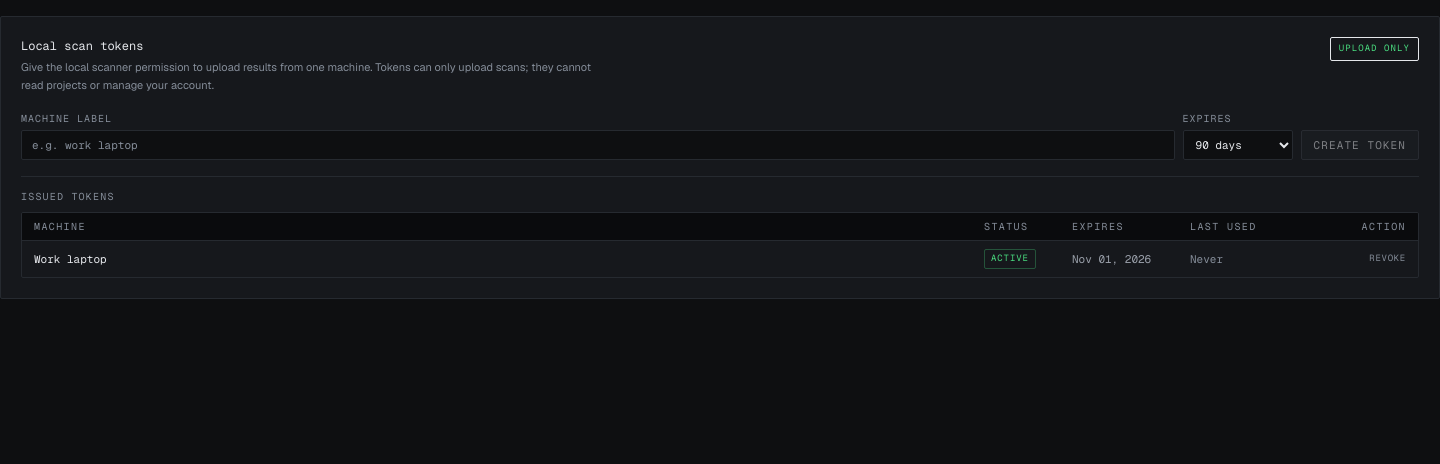
it: ScanTokensPanel › creates a labelled token with the selected expiry and reveals its secret once
Expected: the text "Work laptop" is shown, [34, 252, 107, 266]
Type "Travel laptop" into the field labelled "Machine label" at (598, 145), box [21, 130, 1175, 160]
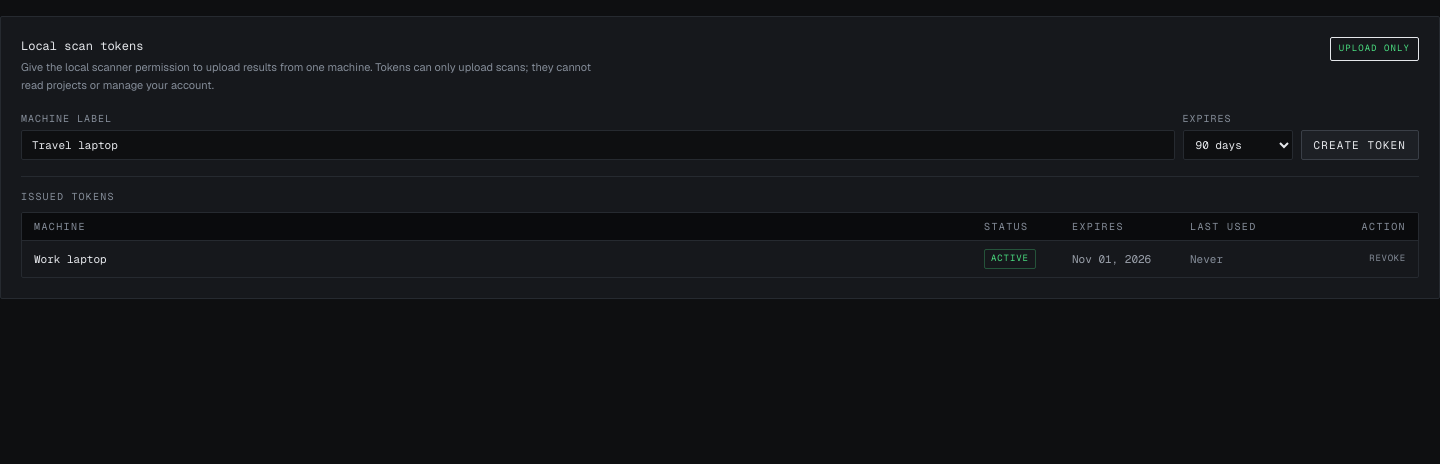
Select "180 days" in the dropdown named "Token expiry" at (1238, 145), box [1183, 130, 1293, 160]
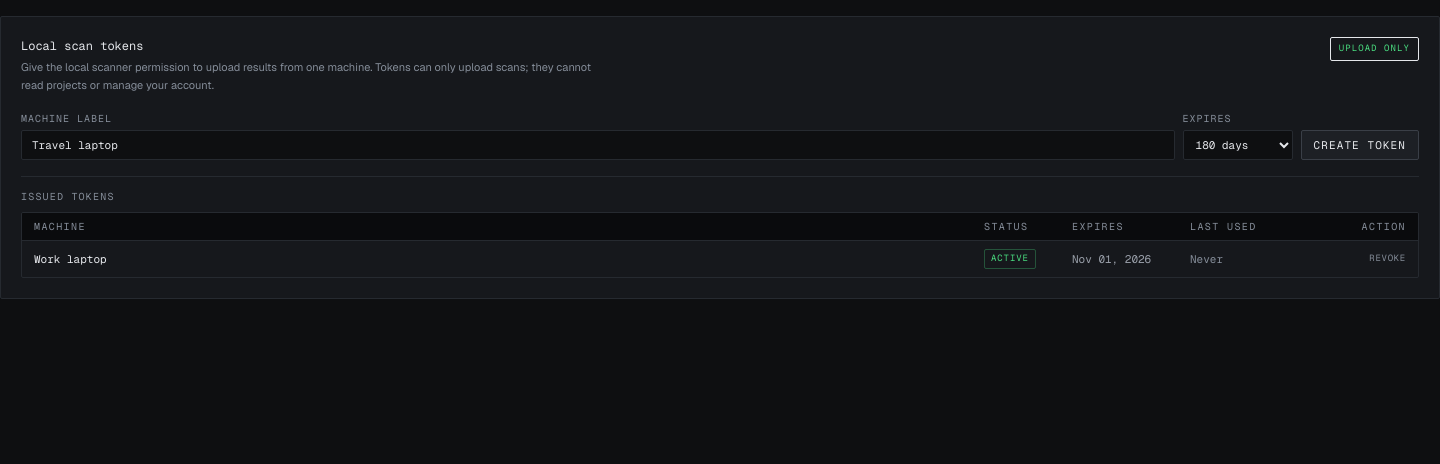
Click the button "Create token" at (1360, 145), box [1301, 130, 1419, 160]
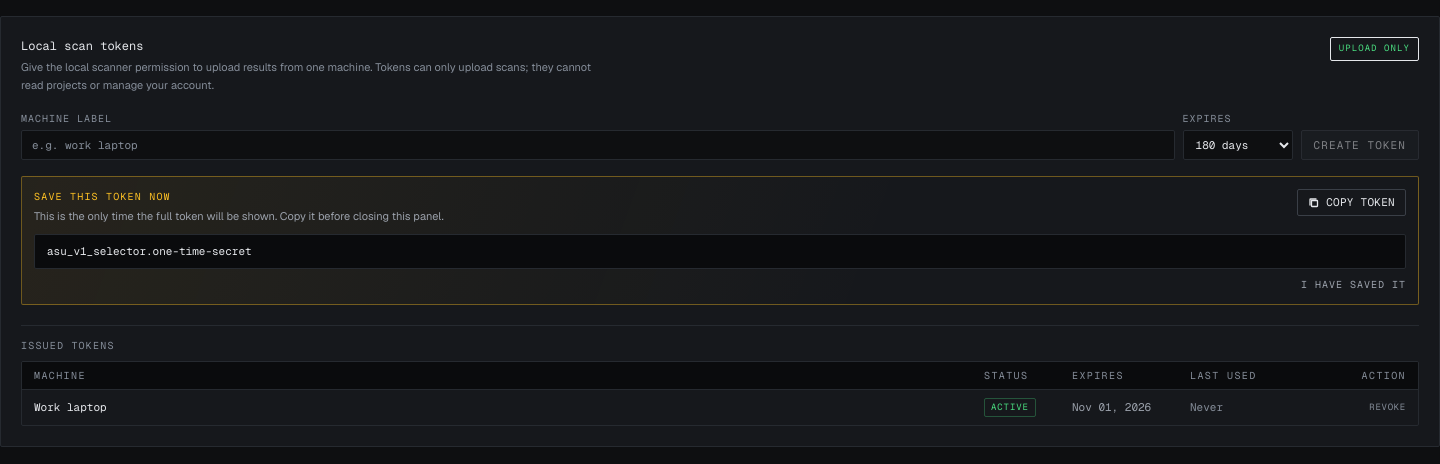
Expected: the text "asu_v1_selector.one-time-secret" is shown, [34, 234, 1406, 269]
Expected: the text "Save this token now" is shown, [34, 190, 171, 203]
Click the button "I have saved it" at (1354, 284), box [1301, 277, 1406, 292]
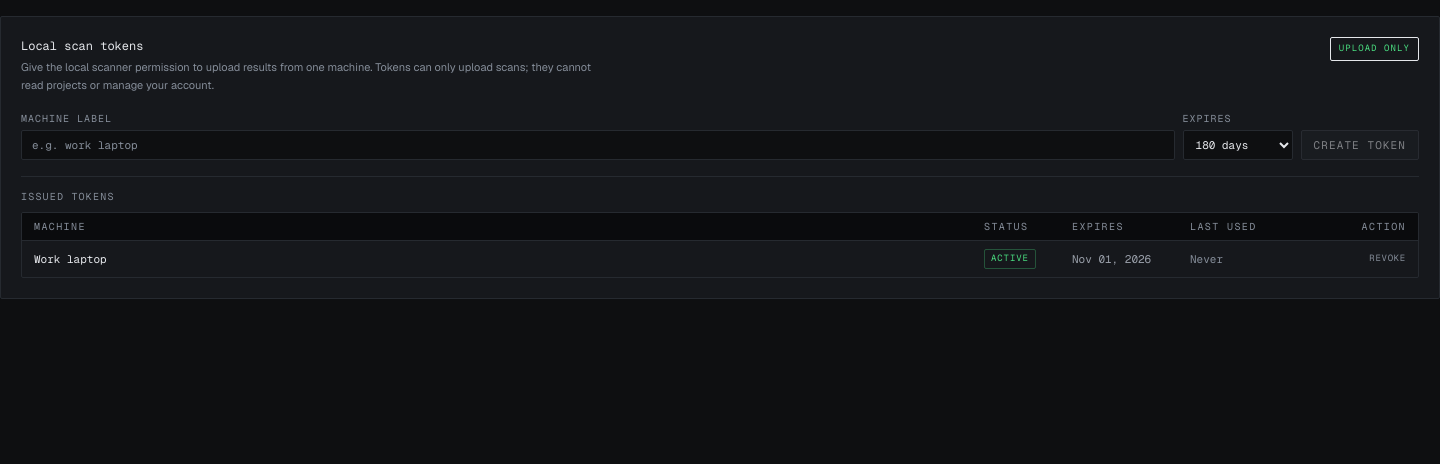
Expected: the text "asu_v1_selector.one-time-secret" is gone
